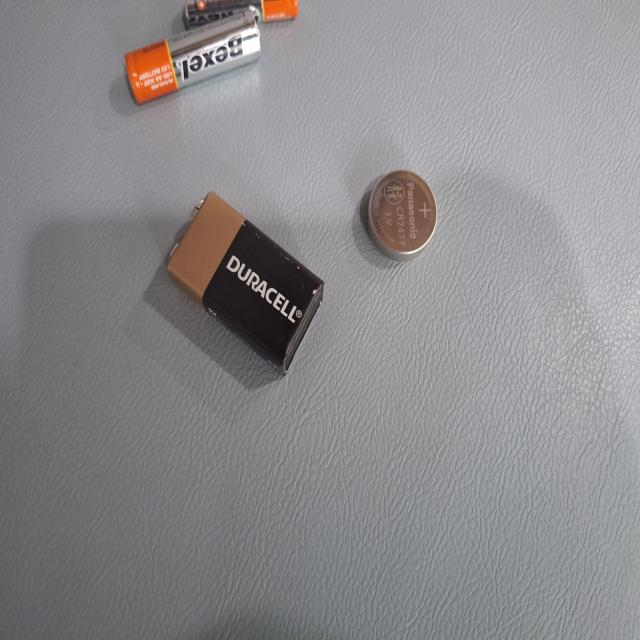9V: (144, 422, 284, 630)
AA: (7, 504, 79, 640)
AAA: (0, 462, 24, 610)
COIN: (127, 270, 195, 364)
